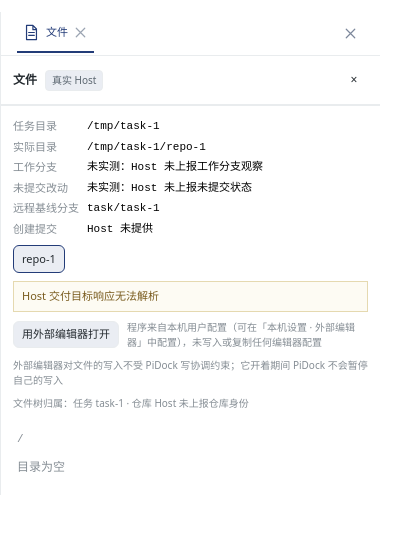
Scenario: #15 box 28 external editor from the file panel › states that no editor configuration is written without a bridge entry (outside the desktop shell)
This screenshot has width=397, height=551.
Step 1. Click the button "用外部编辑器打开" → (66,335), box top-left (13, 321), bottom-right (119, 348)
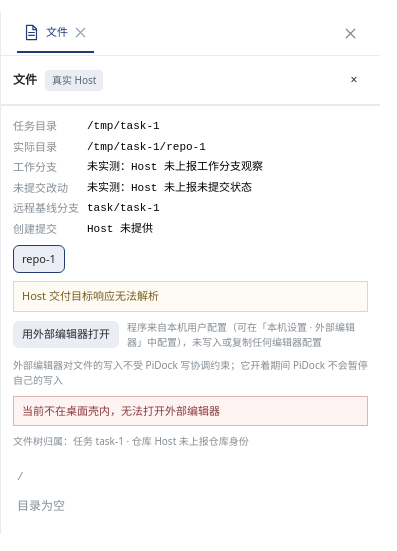
Now the text "当前不在桌面壳内，无法打开外部编辑器" is shown, box top-left (13, 396), bottom-right (368, 426)
